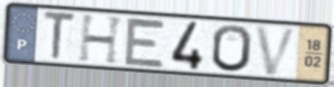4: (169, 19, 206, 72)
E: (122, 15, 168, 70)
H: (77, 14, 127, 67)
O: (210, 23, 254, 74)
T: (42, 9, 78, 63)
V: (253, 24, 301, 78)
